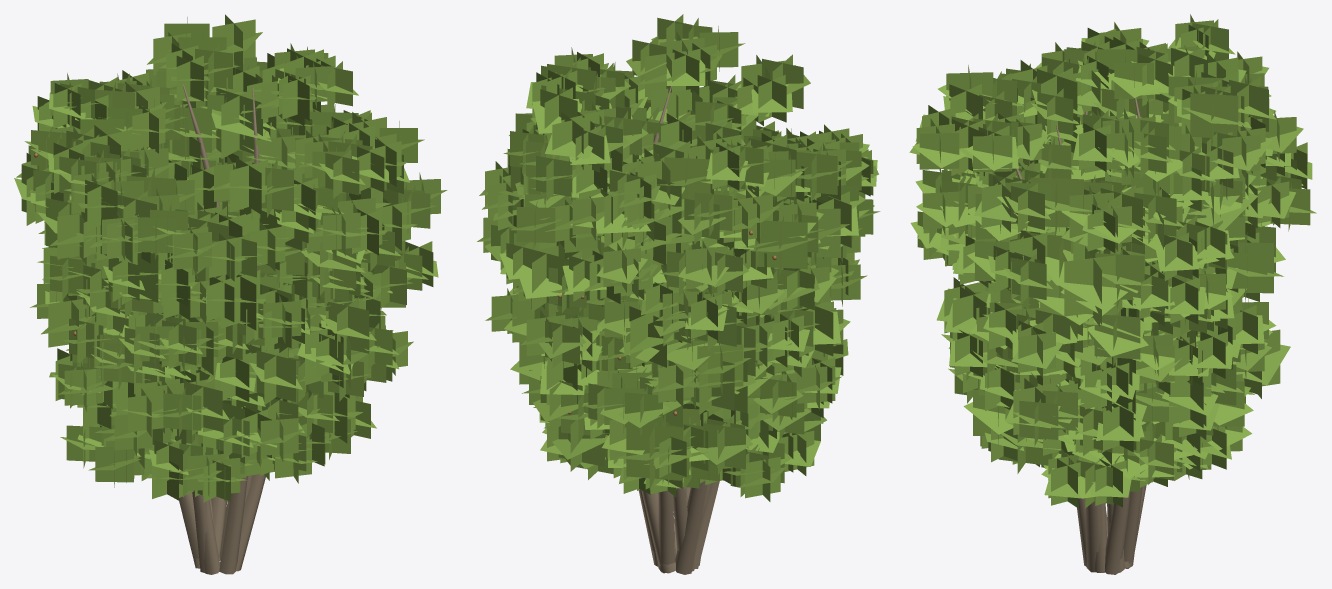
The model's file is noisetier_5_f2_jeu.glb.
The picture shows the model from 3 angles, left to right: view 1: azimuth 30°, elevation 25°; view 2: azimuth 150°, elevation 25°; view 3: azimuth 270°, elevation 25°; orthographic projection. The views are drawn at different scales.
Parts seen in each view (by area): view 1: Noisetier_T5_f2_Leger; view 2: Noisetier_T5_f2_Leger; view 3: Noisetier_T5_f2_Leger.
Part boxes in pixels (<box>): Noisetier_T5_f2_Leger: <box>14,14,447,574</box>; Noisetier_T5_f2_Leger: <box>477,14,880,574</box>; Noisetier_T5_f2_Leger: <box>909,14,1316,574</box>.
Bounding box in the file's own units: 5.71 × 7.38 × 5.41.
